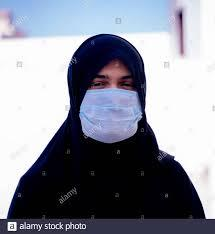Wearing Mask: (53, 21, 161, 144)
